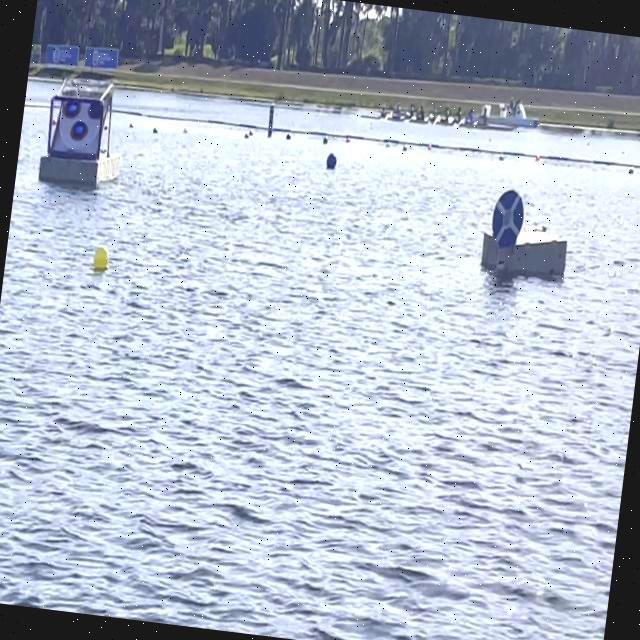buoy: (90, 244, 112, 274), (324, 150, 338, 170)
